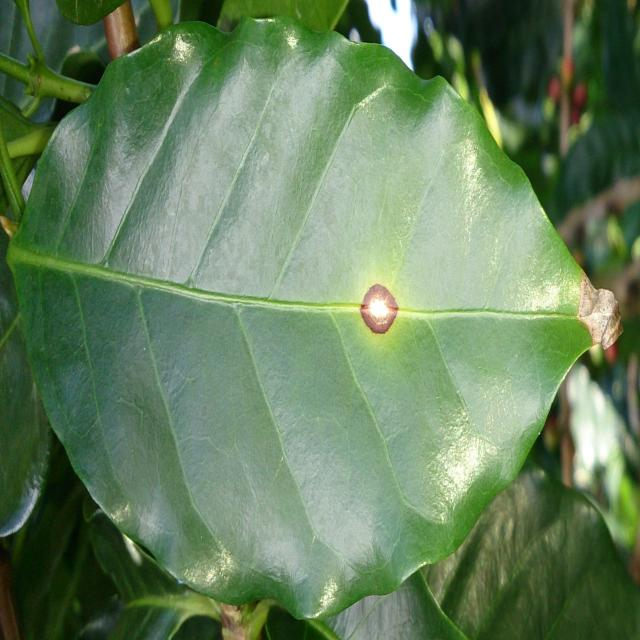Enfermedad-Mancha-de-hierro: (14, 20, 610, 608)
